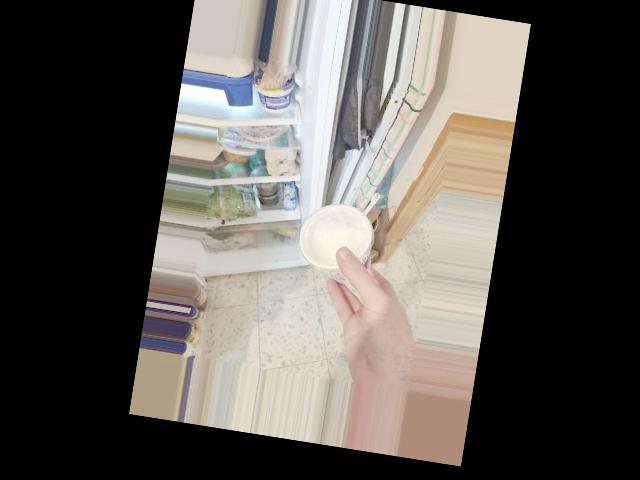cotage: (300, 194, 379, 289)
